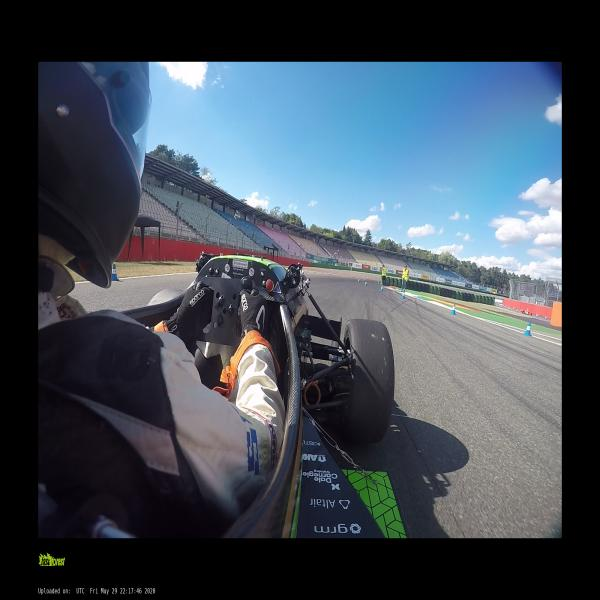blue_cone: (524, 323, 532, 335), (112, 264, 118, 280), (451, 304, 456, 315), (401, 291, 405, 299), (380, 284, 383, 292), (365, 280, 367, 286), (358, 277, 360, 283)
